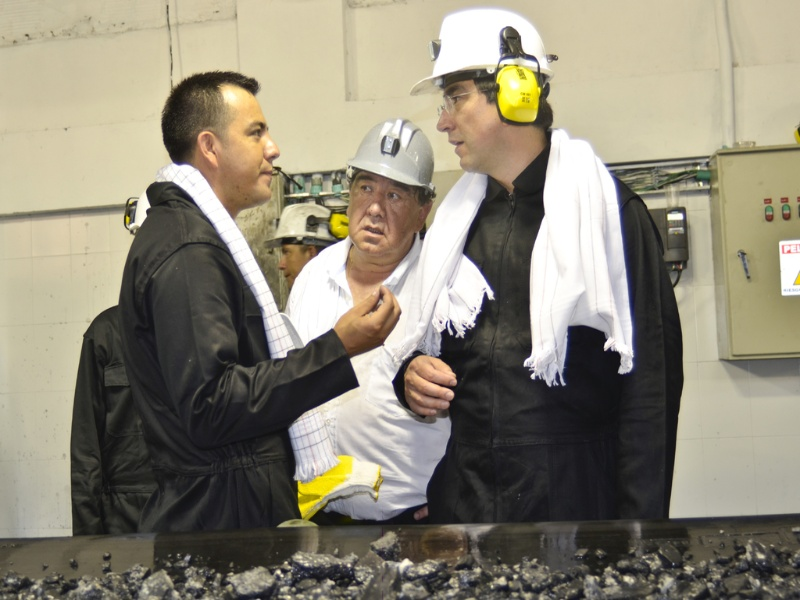Baret: (414, 7, 553, 82), (349, 116, 435, 194)
